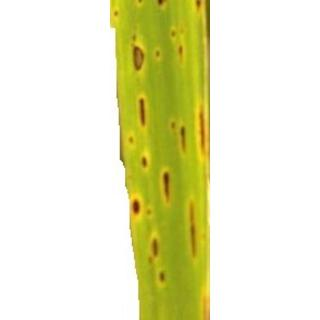bercak-Cokelat: (145, 232, 169, 287), (182, 199, 202, 261), (169, 120, 192, 164), (167, 29, 194, 62), (132, 34, 153, 76), (196, 106, 211, 162), (125, 195, 146, 229), (160, 168, 174, 209), (134, 99, 150, 132), (123, 130, 137, 148), (140, 152, 154, 170), (192, 0, 208, 10)
